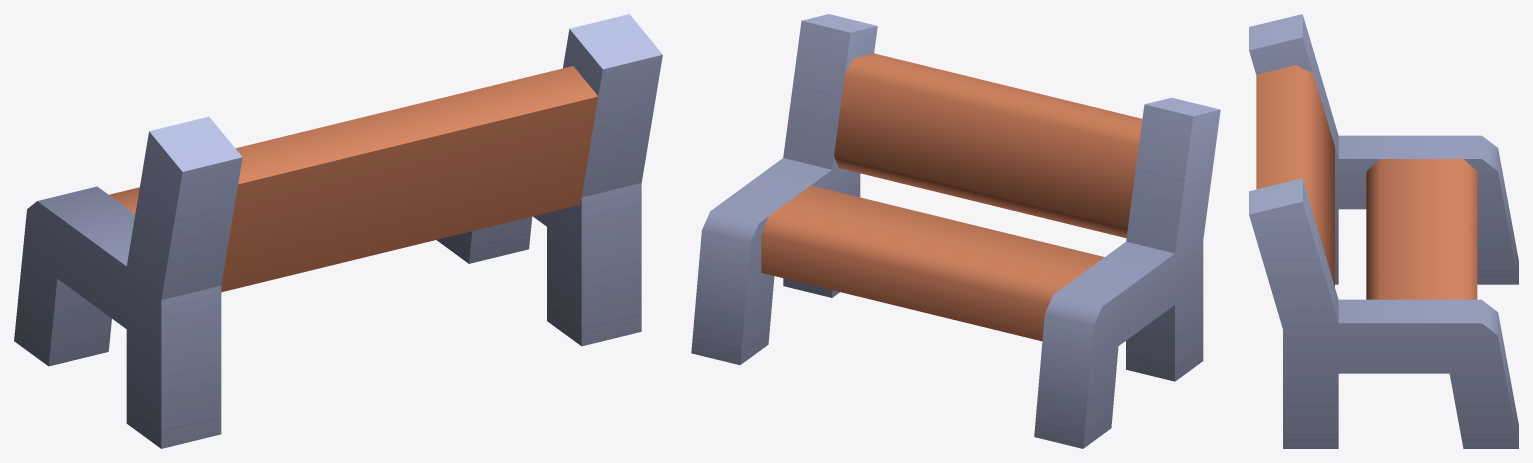
The model's file is bench.glb.
The picture shows the model from 3 angles, left to right: view 1: azimuth 30°, elevation 25°; view 2: azimuth 150°, elevation 25°; view 3: azimuth 270°, elevation 25°; orthographic projection. The views are drawn at different scales.
Visible parts, largest first — view 1: bench; view 2: bench; view 3: bench.
Boxes of the visible parts, x1,y1,x2,y2 form: bench: (14,14,662,448); bench: (691,14,1220,448); bench: (1249,14,1518,448).
Bounding box in the file's own units: 0.8 × 0.4915 × 0.4863.
1 material, 1 textured.
